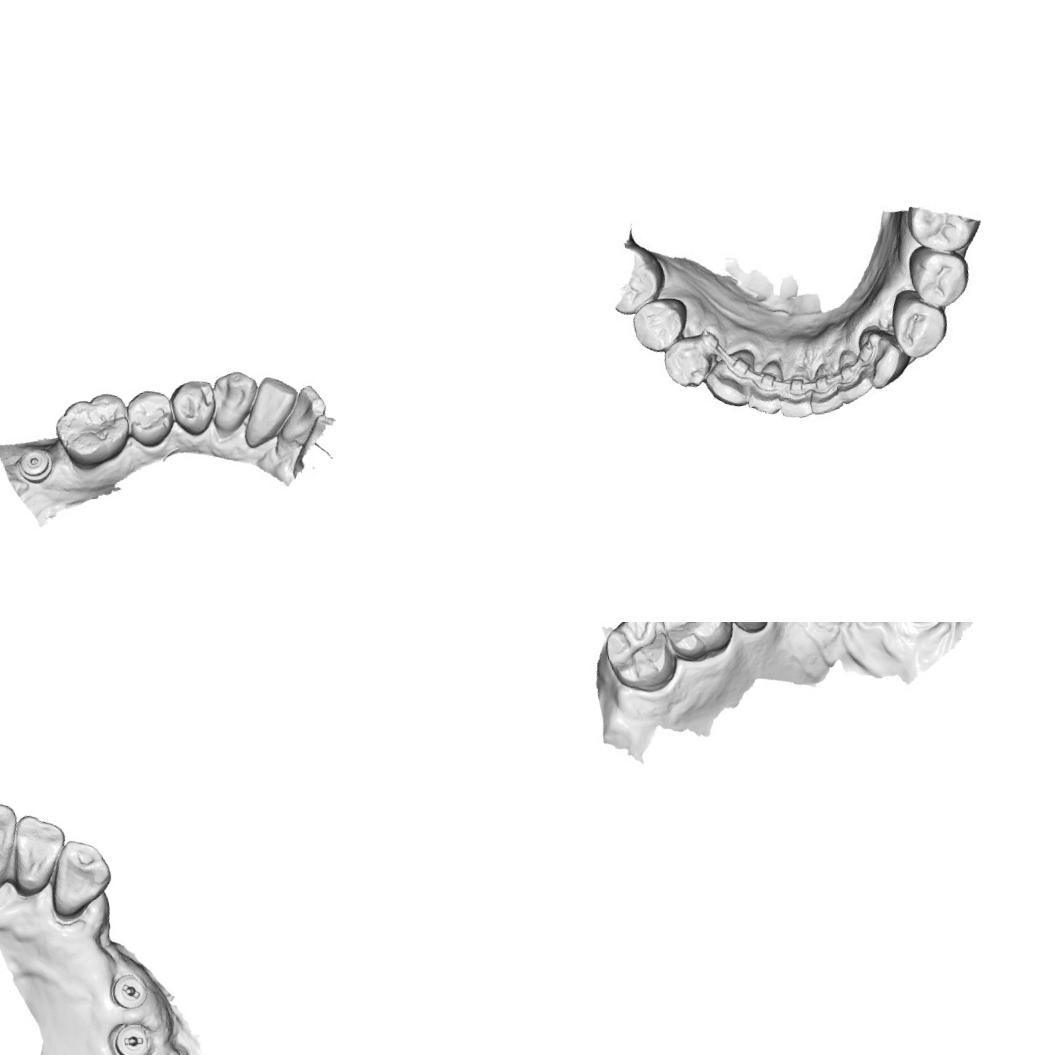canine: (40, 832, 118, 918), (202, 365, 266, 434), (660, 329, 724, 394), (855, 327, 907, 385)
implant: (14, 444, 57, 486)
implant_minus: (106, 968, 152, 1014), (106, 1015, 157, 1055)
incisor: (2, 806, 75, 898), (232, 370, 306, 450), (269, 380, 332, 444), (702, 352, 758, 408), (742, 357, 788, 412), (831, 350, 875, 407), (0, 796, 27, 887), (777, 367, 822, 420), (805, 359, 846, 413)
molar: (48, 388, 136, 473), (598, 622, 682, 700), (648, 622, 746, 668)
premolar: (121, 384, 180, 452), (908, 246, 968, 310), (628, 296, 690, 357), (890, 288, 948, 352), (166, 374, 221, 440), (717, 622, 781, 638)
